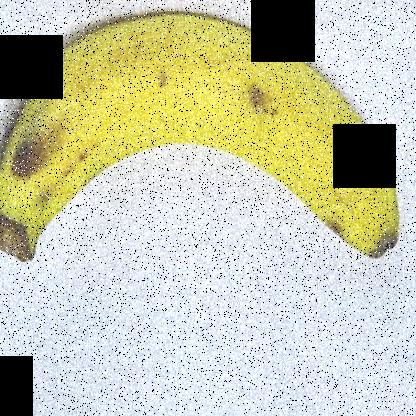freshripe: (1, 1, 409, 300)
